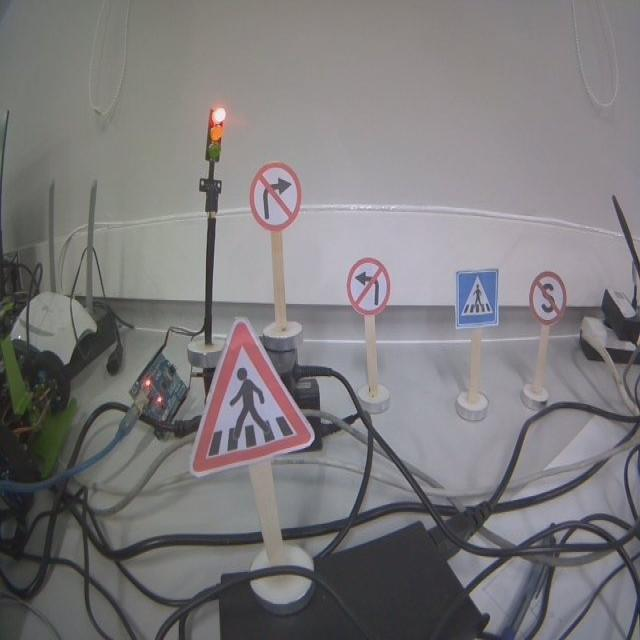Dilarang Belok Kanan: (250, 162, 302, 230)
Dilarang Belok Kiri: (347, 259, 389, 313)
Lampu Merah: (205, 106, 225, 162)
Rambu Berhenti: (529, 272, 566, 323)
Rambu Penyebrangan: (191, 317, 314, 475), (455, 268, 499, 328)
